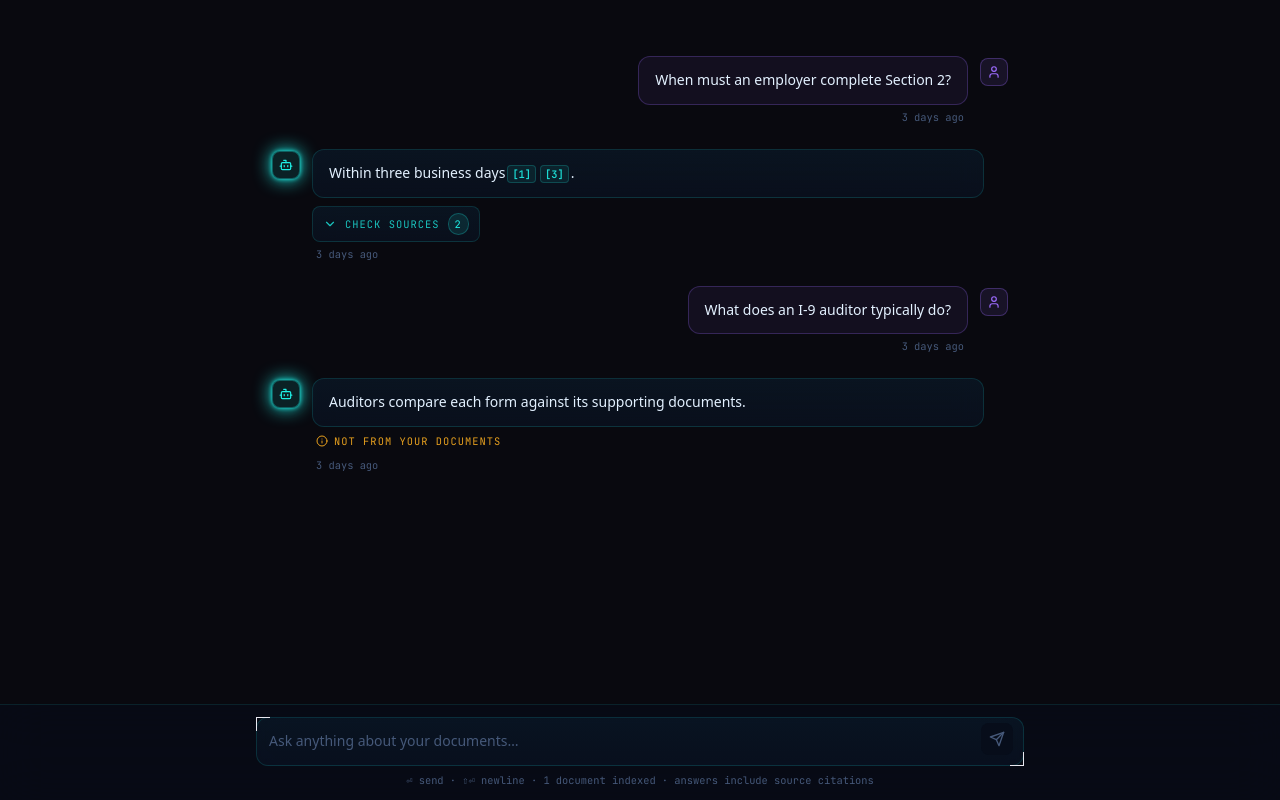
it: source cards › show the rank in the passage popover too
Expected: the text "Within three business days" is shown, [329, 163, 505, 182]
Hover over the button named "Source 1" at (522, 174), box [507, 165, 536, 183]
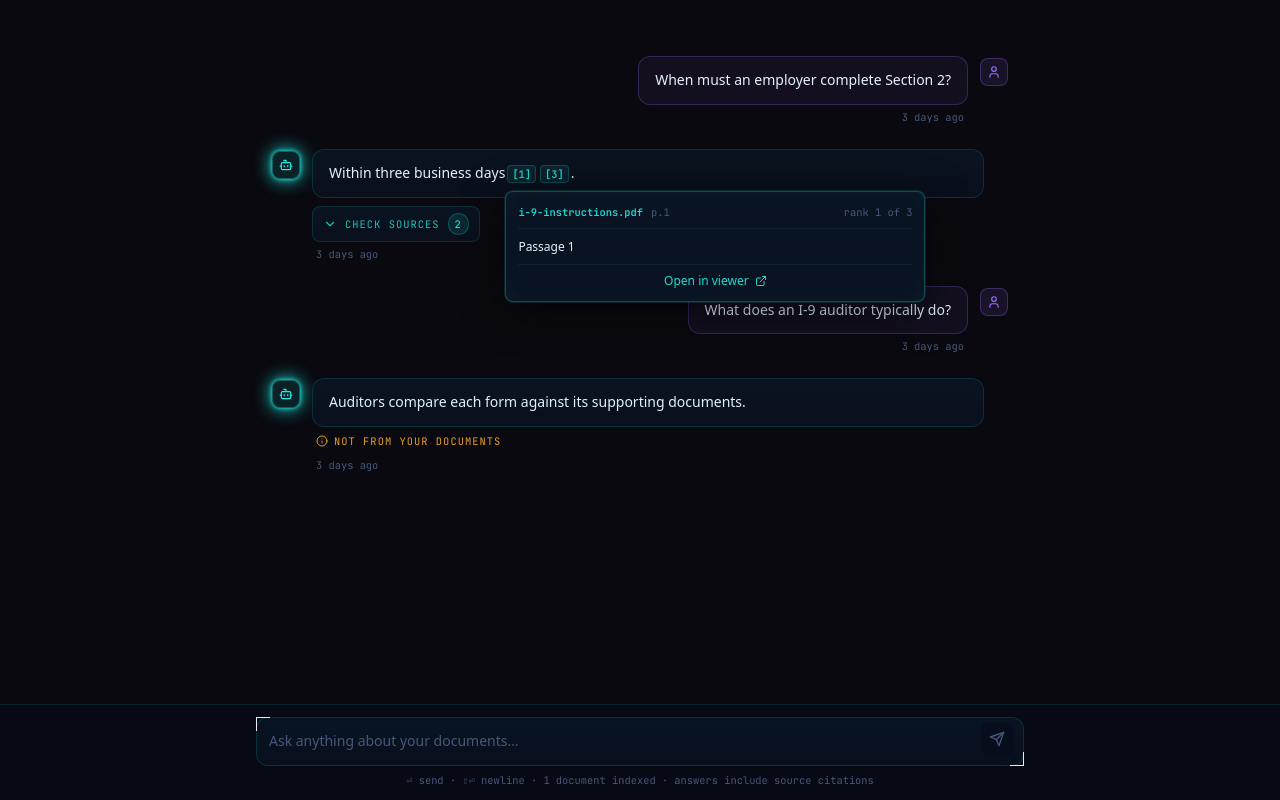
Result: the dialog shows "rank 1 of 3" at [505, 190, 925, 302]
